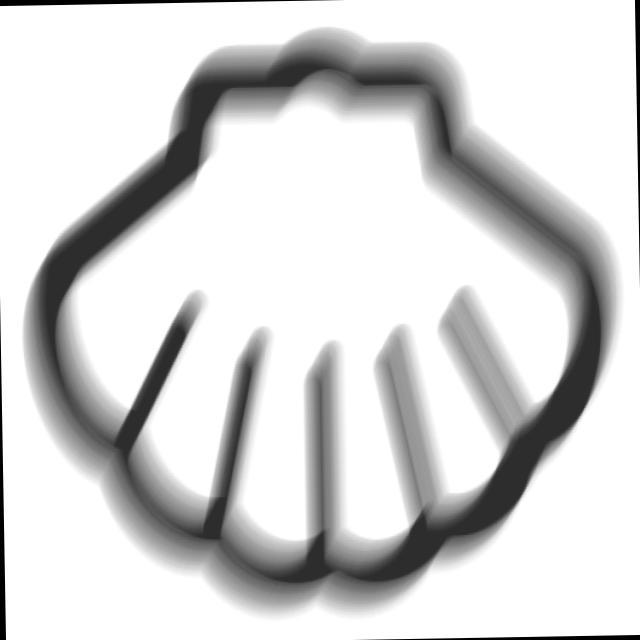shell: (8, 10, 633, 636)
